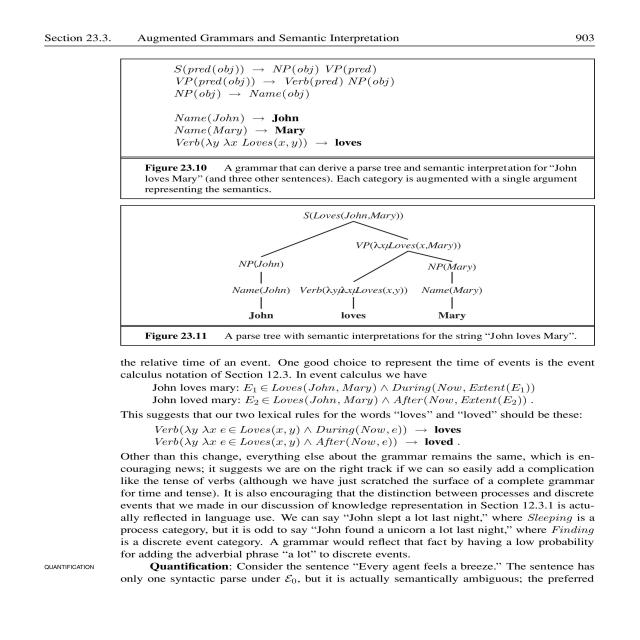diagram: (119, 204, 588, 343)
